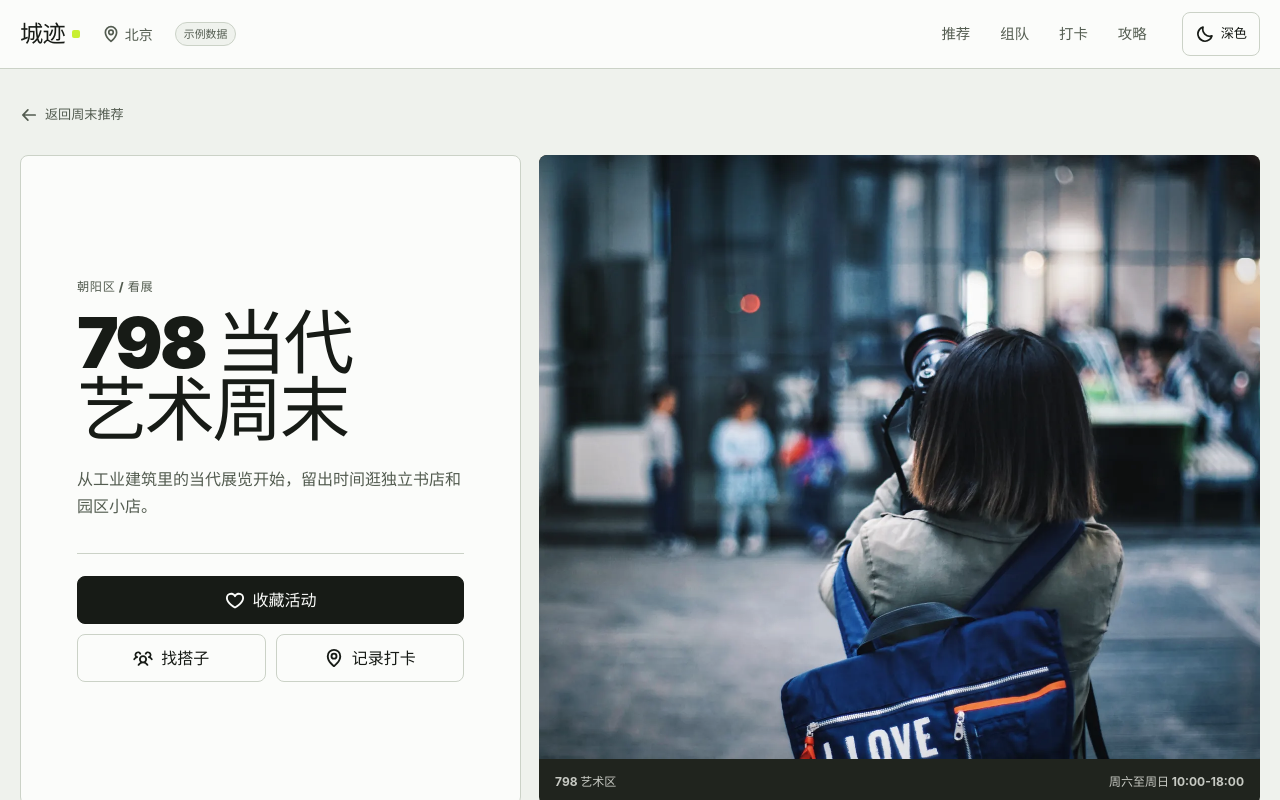
Scenario: keeps a favorite in session and shows the shell warning when storage fails
Click the button "收藏活动".
click(270, 600)  # box 77,576 -> 464,624
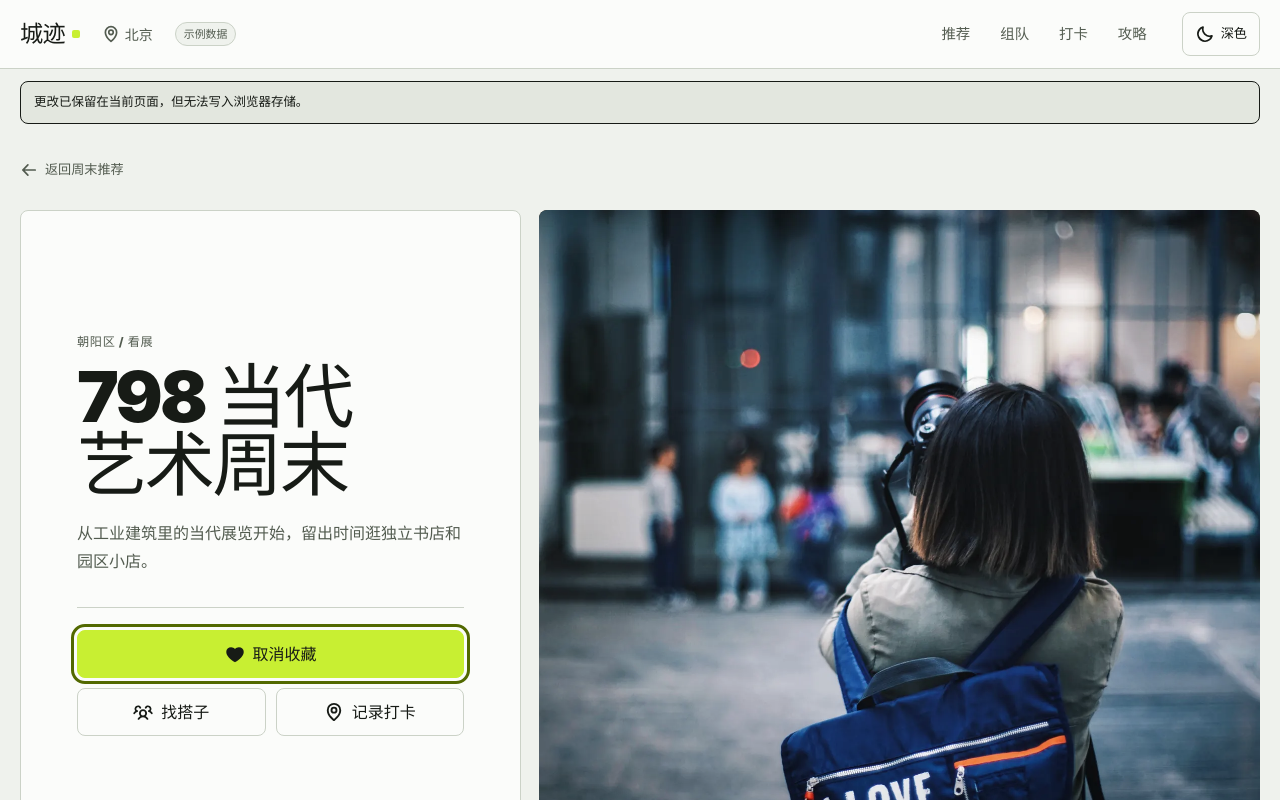
Now the message named "浏览器存储提示" reads "更改已保留在当前页面，但无法写入浏览器存储。", box 34,94 -> 308,109
